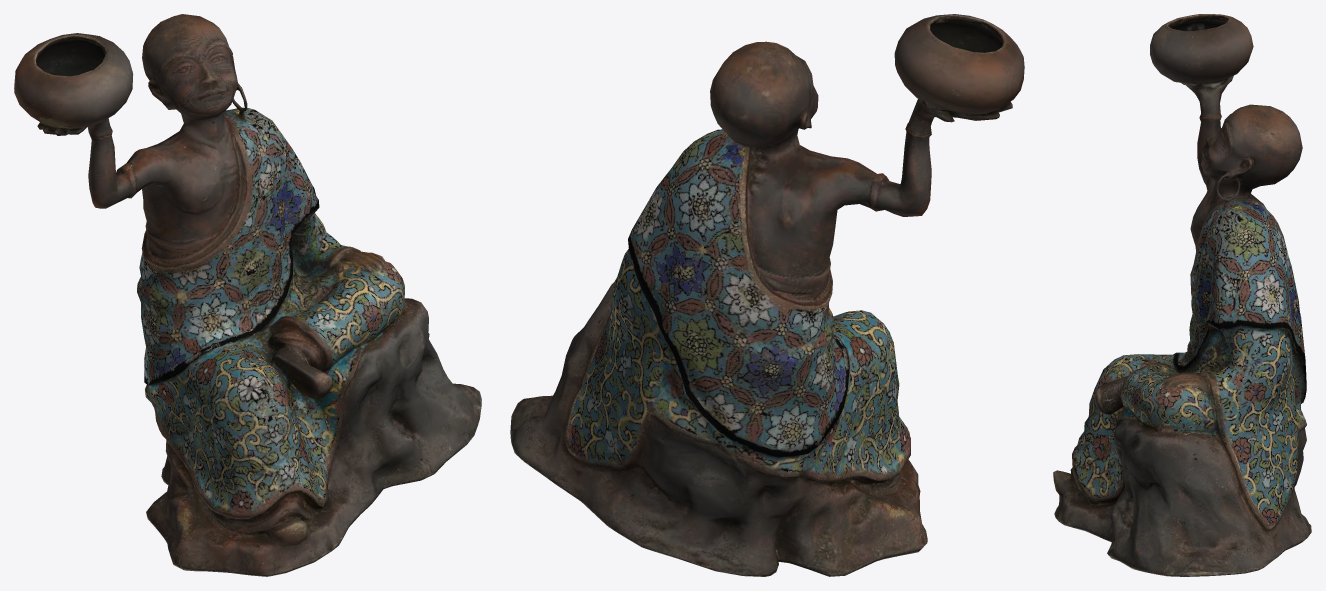
File: arhat-seated.glb
3 views of the same model, side by side, from view 1: azimuth 30°, elevation 25°; view 2: azimuth 150°, elevation 25°; view 3: azimuth 270°, elevation 25° (orthographic). The views are drawn at different scales.
Parts seen in each view (by area): view 1: arhat-low; view 2: arhat-low; view 3: arhat-low.
Boxes of the visible parts, <box> form: arhat-low: <box>14,14,481,576</box>; arhat-low: <box>510,14,1024,576</box>; arhat-low: <box>1053,14,1311,576</box>.
Bounding box in the file's own units: 0.9241 × 1 × 0.5216.
1 material, 1 textured.
